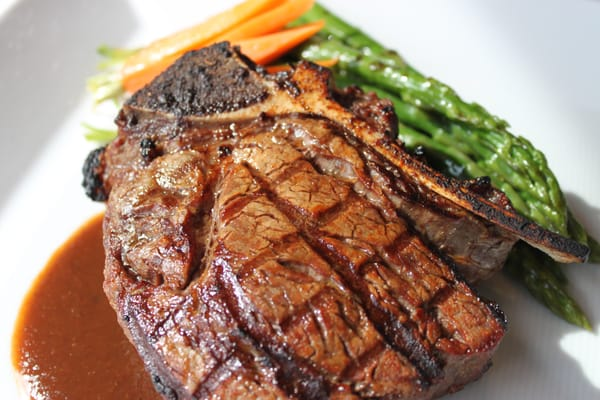taco: (7, 209, 161, 395)
